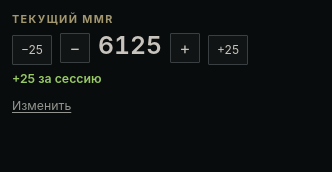
Scenario: CurrentMmrControl › nudges Current MMR down by 25 through the compact stepper
Click the button named "Уменьшить MMR на 25".
click(32, 50)  # box [12,35,52,65]
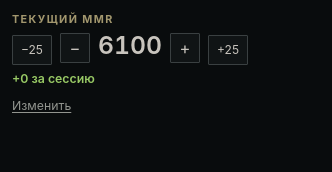
Check: the text "6100" is shown, box [98,33,162,58]
